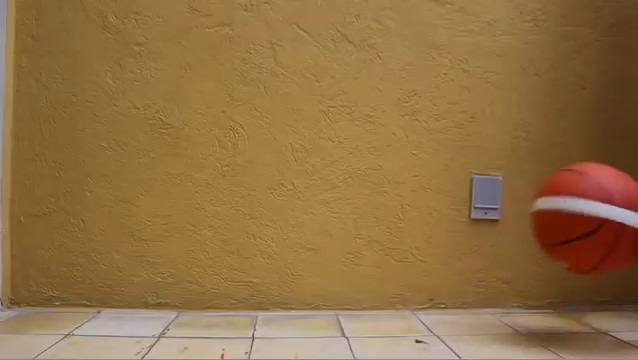ball: (531, 160, 638, 275)
